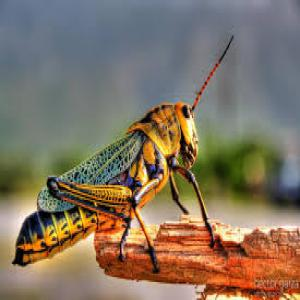locust: (19, 50, 224, 283)
